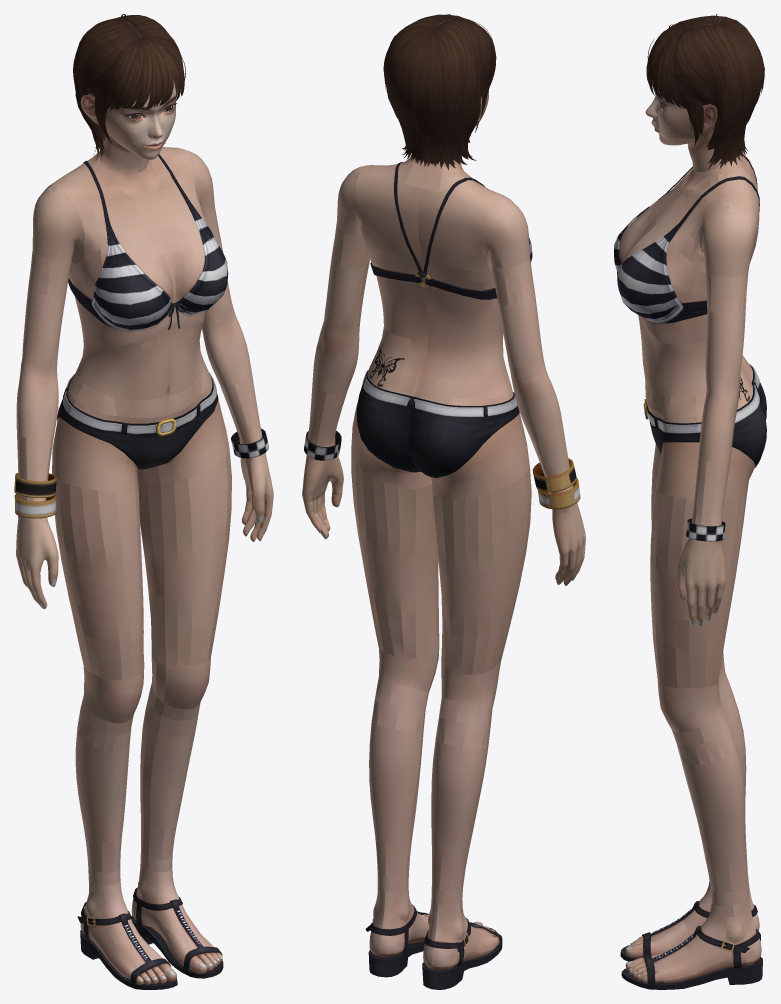
The model's file is Sung-A Kim GT.fbx.
3 renders of one model, left to right at view 1: azimuth 30°, elevation 25°; view 2: azimuth 150°, elevation 25°; view 3: azimuth 270°, elevation 25°, orthographic.
Visible parts, largest first — view 1: Sung-A Kim GT; view 2: Sung-A Kim GT; view 3: Sung-A Kim GT.
Boxes of the visible parts, left/top/right/bottom form: Sung-A Kim GT: left=14, top=14, right=273, bottom=989; Sung-A Kim GT: left=302, top=14, right=585, bottom=989; Sung-A Kim GT: left=614, top=14, right=766, bottom=989.
Size of the model in its own units: 95.52 by 330 by 48.69.
8 materials, 8 textured.
